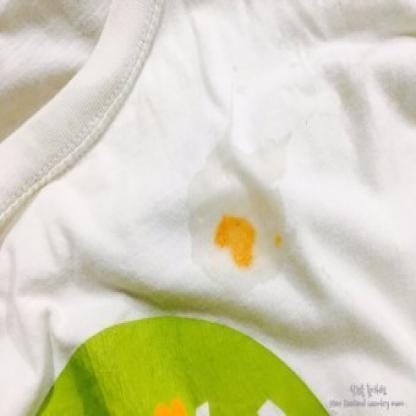kimchi: (204, 206, 258, 270), (271, 228, 287, 249)
